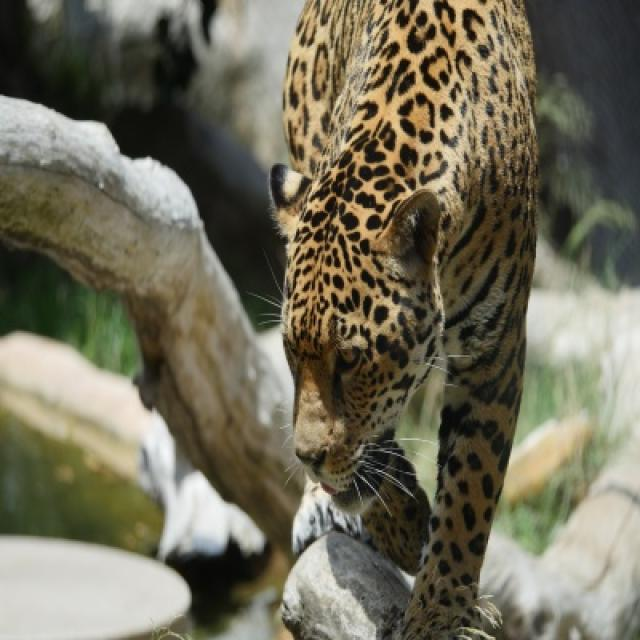Jaguar: (270, 0, 538, 638)
